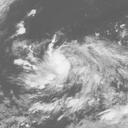cyclone: (20, 47, 76, 93)
